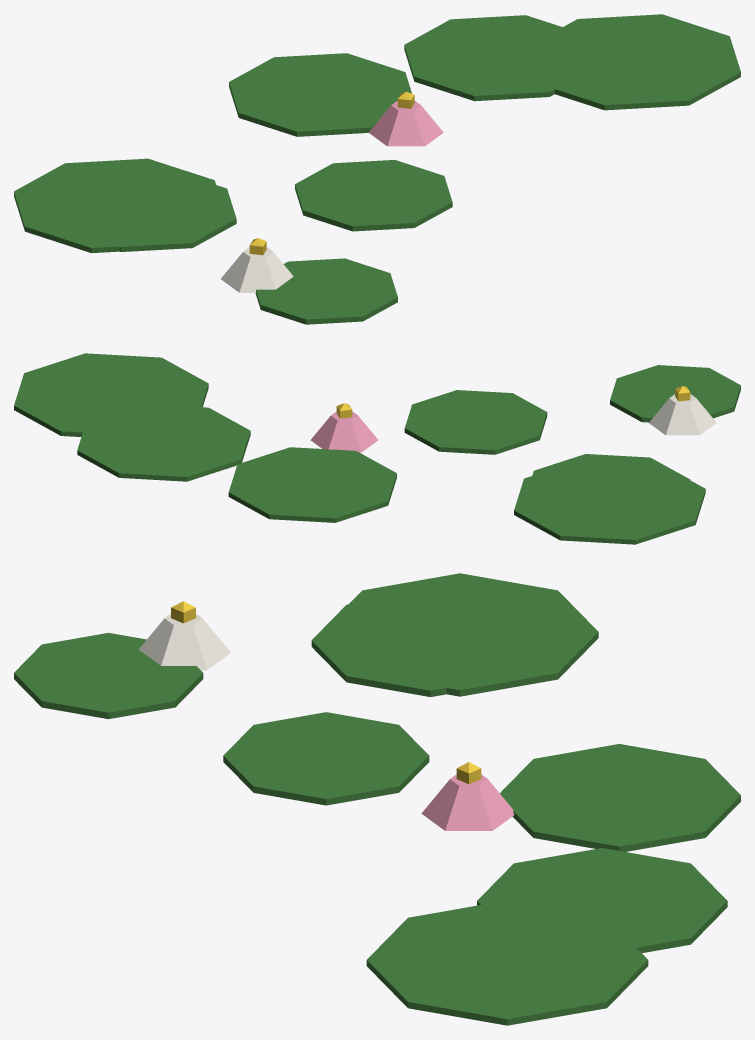
File: lily_pads.glb
The picture shows the model from 3 angles, top to bottom: view 1: azimuth 30°, elevation 25°; view 2: azimuth 150°, elevation 25°; view 3: azimuth 270°, elevation 25°; orthographic projection. The views are drawn at different scales.
Visible parts, largest first — view 1: lily_pads; view 2: lily_pads; view 3: lily_pads.
Boxes of the visible parts, left/top/right/bottom form: lily_pads: left=14, top=14, right=740, bottom=324; lily_pads: left=14, top=353, right=740, bottom=544; lily_pads: left=14, top=573, right=740, bottom=1025.
Bounding box in the file's own units: 2.22 × 0.1275 × 1.53.
